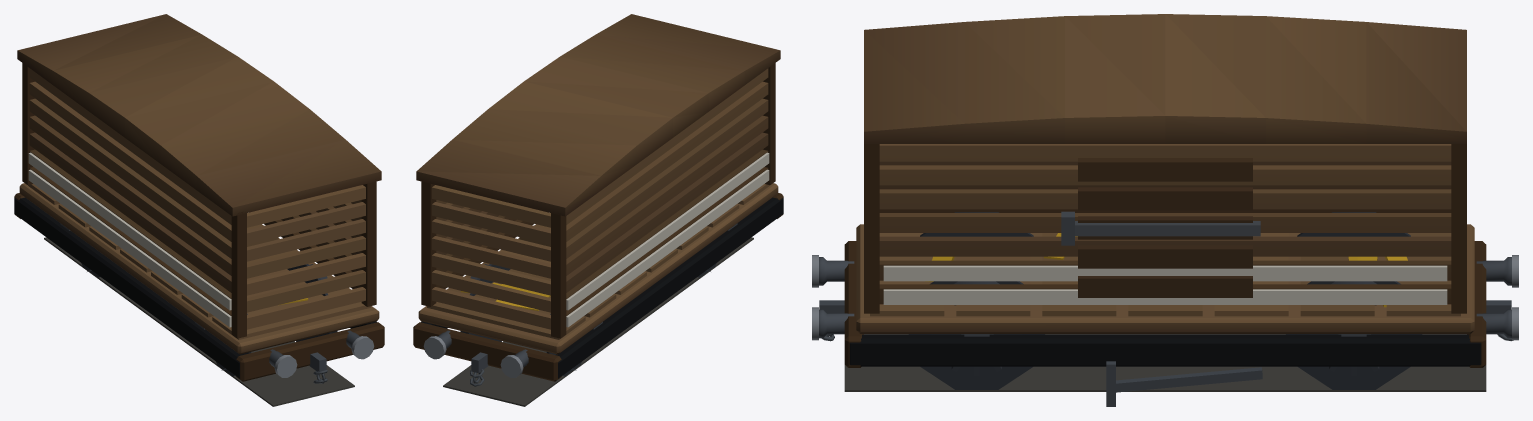
The model's file is cattle-wagon.glb.
The picture shows the model from 3 angles, left to right: view 1: azimuth 30°, elevation 25°; view 2: azimuth 150°, elevation 25°; view 3: azimuth 270°, elevation 25°; orthographic projection. The views are drawn at different scales.
Parts seen in each view (by area): view 1: cattle_wagon; view 2: cattle_wagon; view 3: cattle_wagon.
Boxes of the visible parts, <box> form: cattle_wagon: <box>14,14,384,406</box>; cattle_wagon: <box>413,14,783,406</box>; cattle_wagon: <box>812,14,1518,406</box>.
Bounding box in the file's own units: 1.27 × 1.7 × 3.63.
